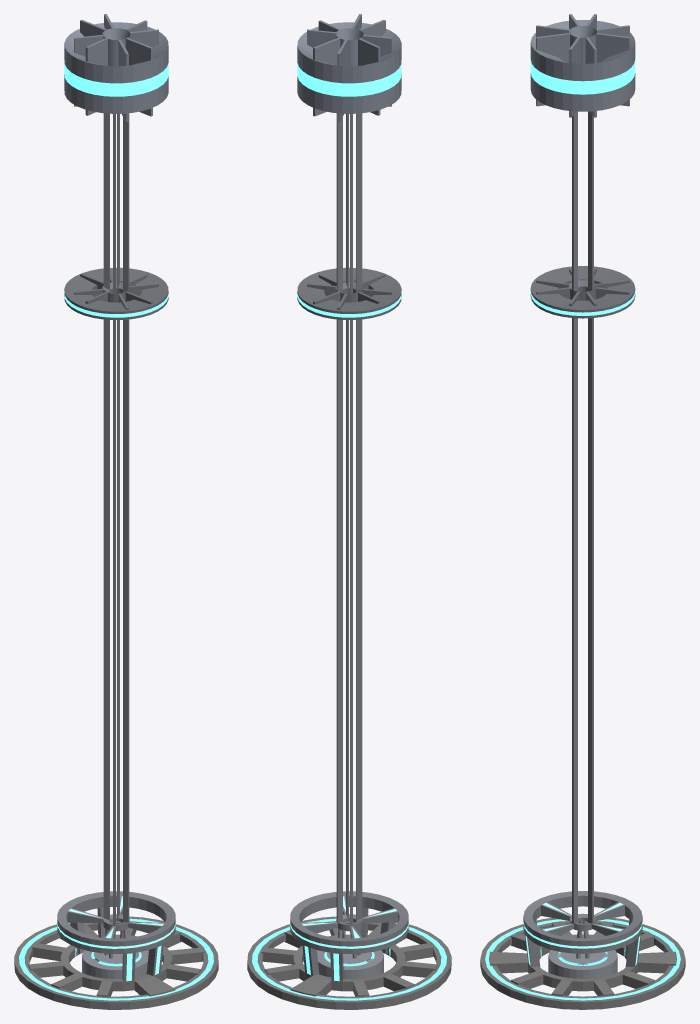
3 renders of one model, left to right at view 1: azimuth 30°, elevation 25°; view 2: azimuth 150°, elevation 25°; view 3: azimuth 270°, elevation 25°, orthographic.
Visible parts, largest first — view 1: 円柱.003, 円柱.001, 円柱.002, 円柱.005; view 2: 円柱.003, 円柱.001, 円柱.002, 円柱.005; view 3: 円柱.003, 円柱.001, 円柱.002, 円柱.005.
Part boxes in pixels (<box>): 円柱.003: <box>57,113,175,981</box>; 円柱.001: <box>14,916,218,1009</box>; 円柱.002: <box>64,14,168,122</box>; 円柱.005: <box>64,267,168,319</box>; 円柱.003: <box>290,113,408,981</box>; 円柱.001: <box>247,916,451,1009</box>; 円柱.002: <box>297,14,401,122</box>; 円柱.005: <box>297,267,401,319</box>; 円柱.003: <box>523,111,642,967</box>; 円柱.001: <box>480,918,685,1009</box>; 円柱.002: <box>530,14,635,117</box>; 円柱.005: <box>530,266,635,318</box>.
Size of the model in its own units: 3633 by 18396 by 3633.
